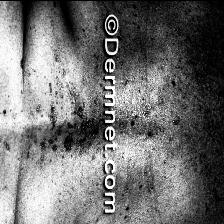Potentially Malignant Skin Tumors: (0, 82, 100, 160)
